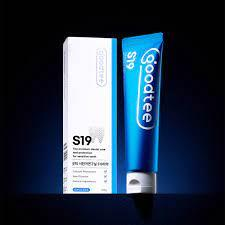toothpaste: (119, 34, 183, 200)
